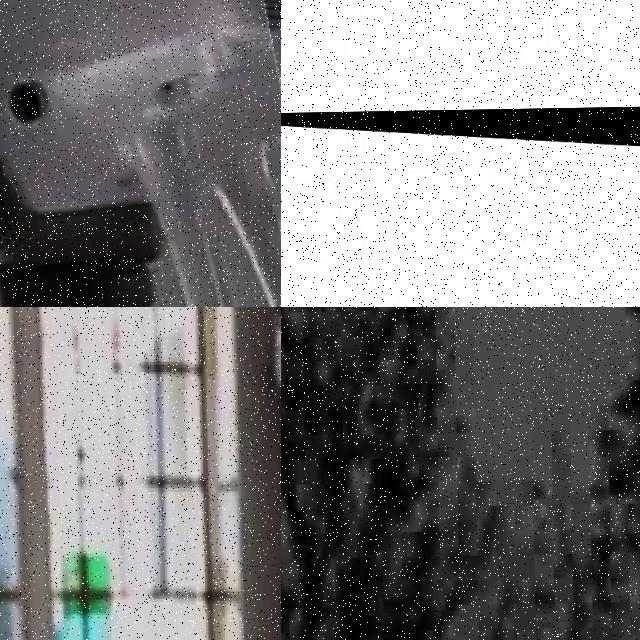drone: (0, 0, 281, 307), (281, 104, 640, 307)
